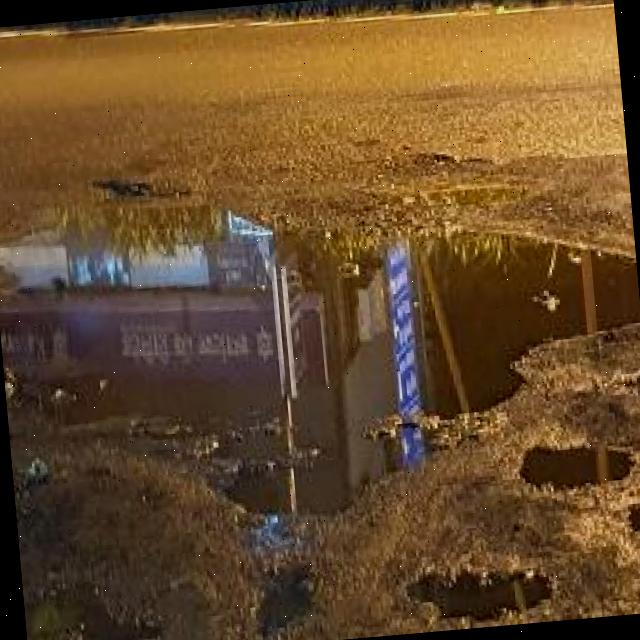waterlogging: (0, 179, 628, 534)
